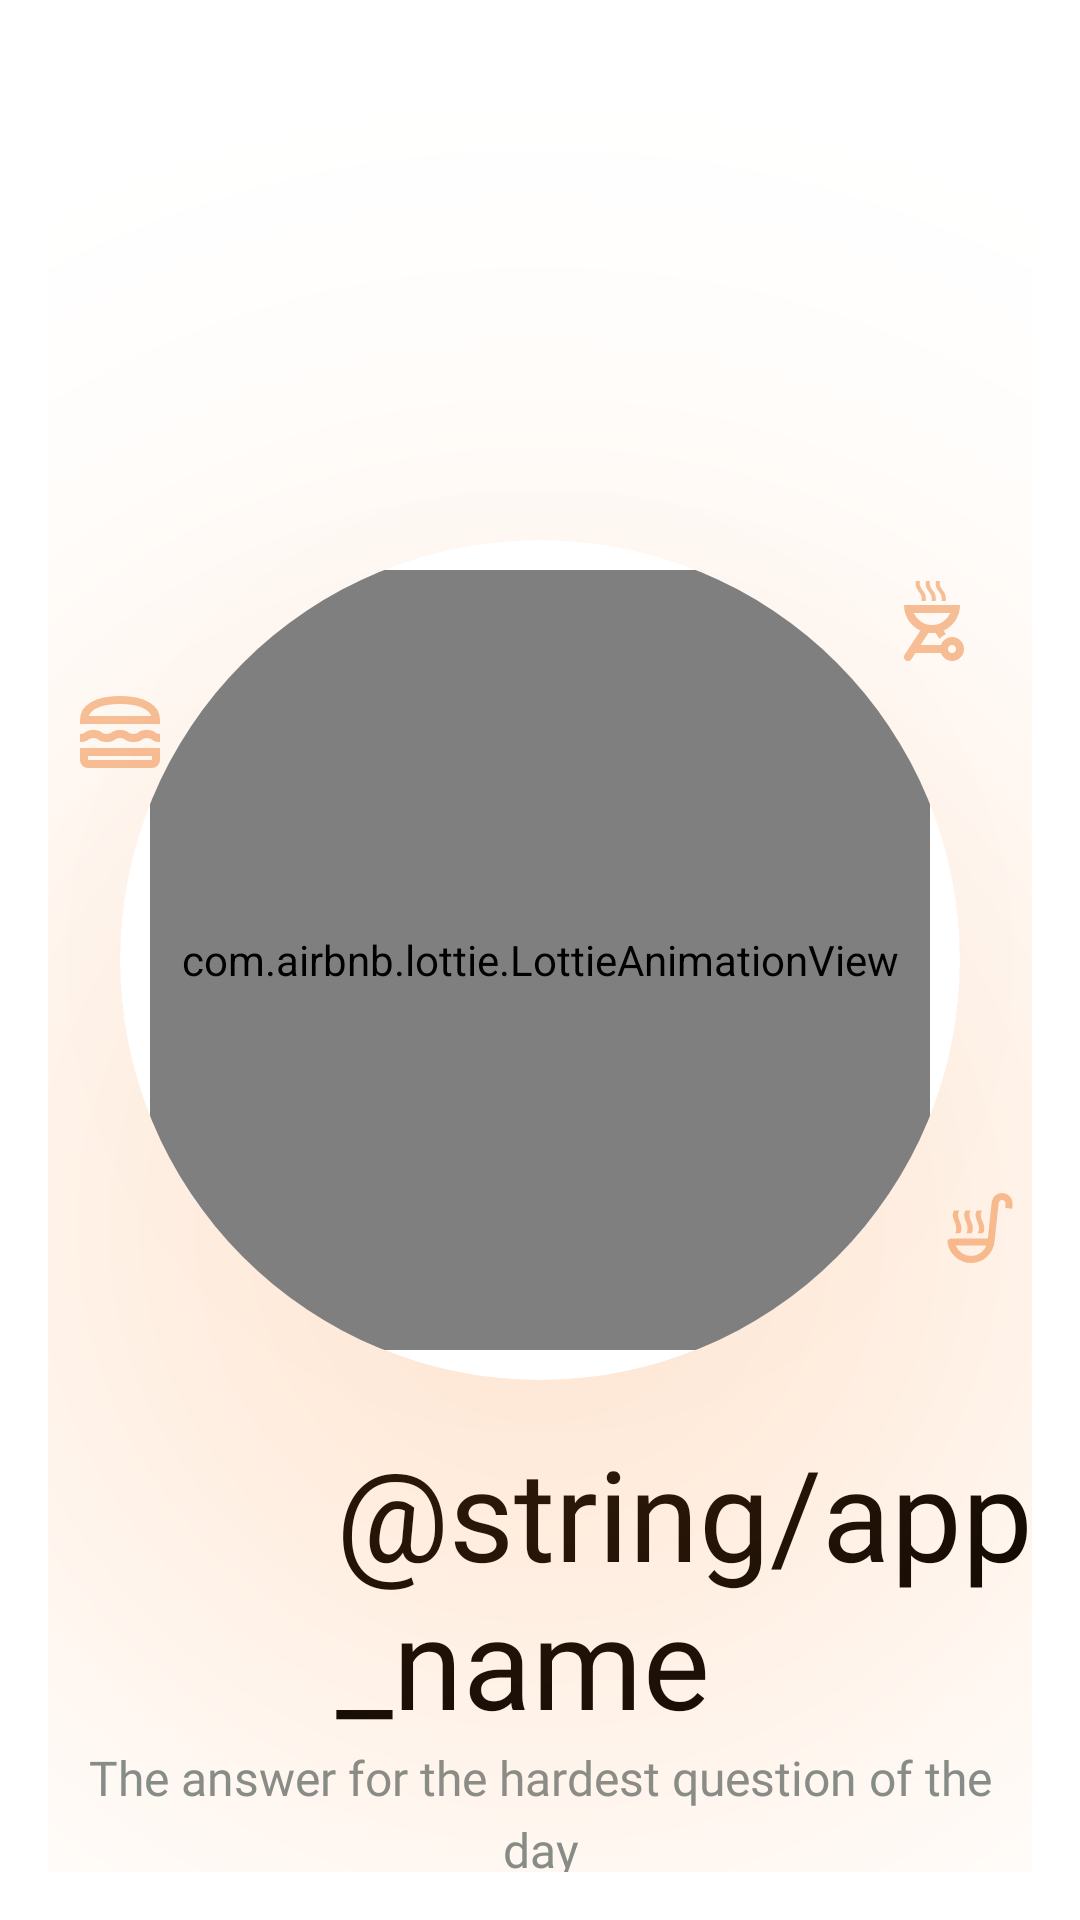

Named icons in this screenshot (1080x1920) and their centers, point (x, y):
burger: point (120, 732)
grill: point (934, 621)
soup: point (980, 1228)
